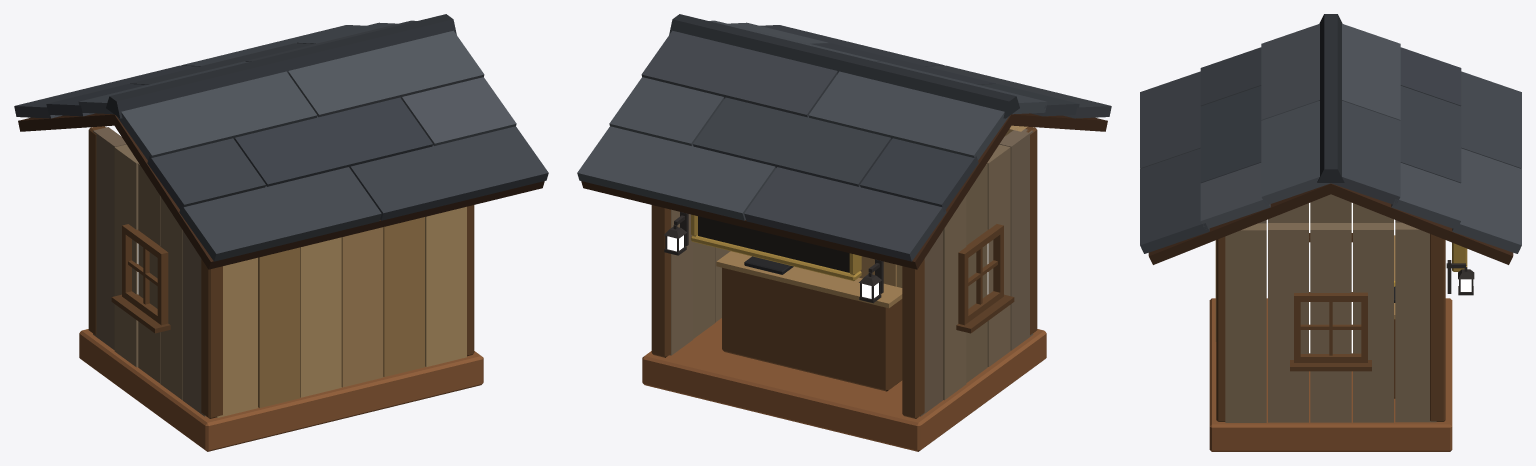
File: TollBooth.glb
3 views of the same model, side by side, from view 1: azimuth 30°, elevation 25°; view 2: azimuth 150°, elevation 25°; view 3: azimuth 270°, elevation 25° (orthographic). The views are drawn at different scales.
Parts seen in each view (by area): view 1: Body, Roof; view 2: Roof, Body, Counter, Sign; view 3: Roof, Body, Glow.
Boxes of the visible parts, x1,y1,x2,y2 form: Body: (79,126,483,451); Roof: (14,14,548,269); Roof: (577,14,1111,269); Body: (642,125,1046,451); Counter: (716,251,902,391); Sign: (698,216,849,272); Roof: (1140,14,1521,264); Body: (1209,194,1474,451); Glow: (1309,203,1471,353).
Size of what is drawn, in the model's own units: 12.1 by 10.8 by 12.58.
